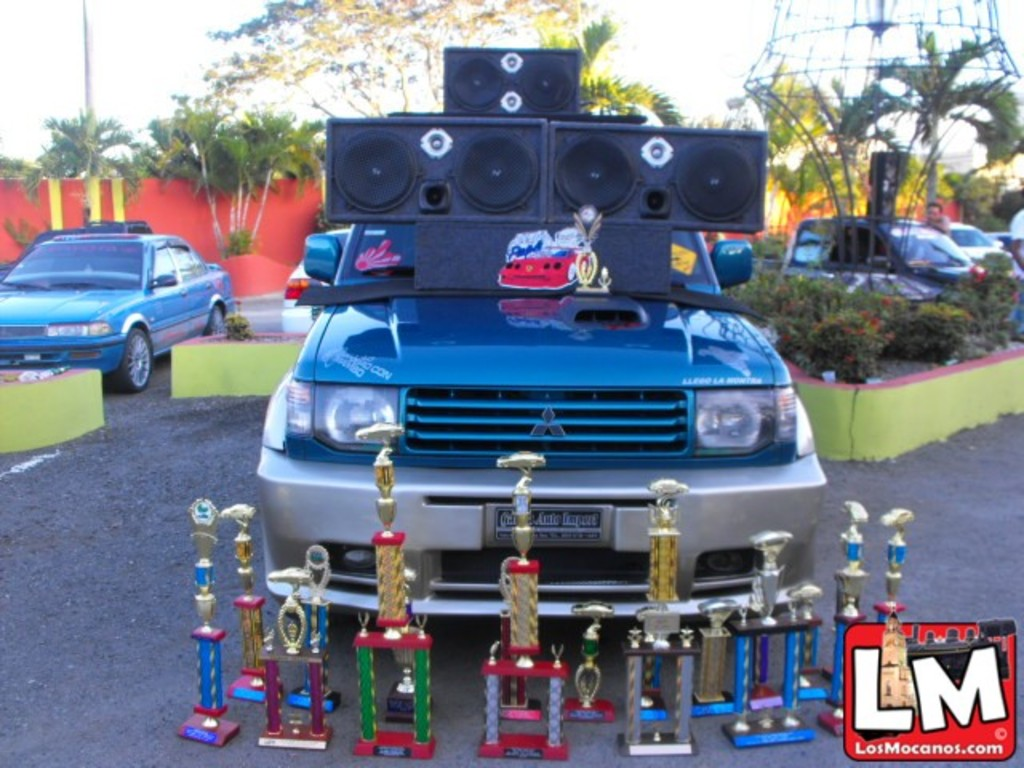Car: (259, 240, 827, 606), (0, 220, 233, 395), (779, 209, 980, 303), (275, 231, 382, 334), (0, 220, 150, 284), (899, 222, 1012, 275), (974, 231, 1017, 267)
